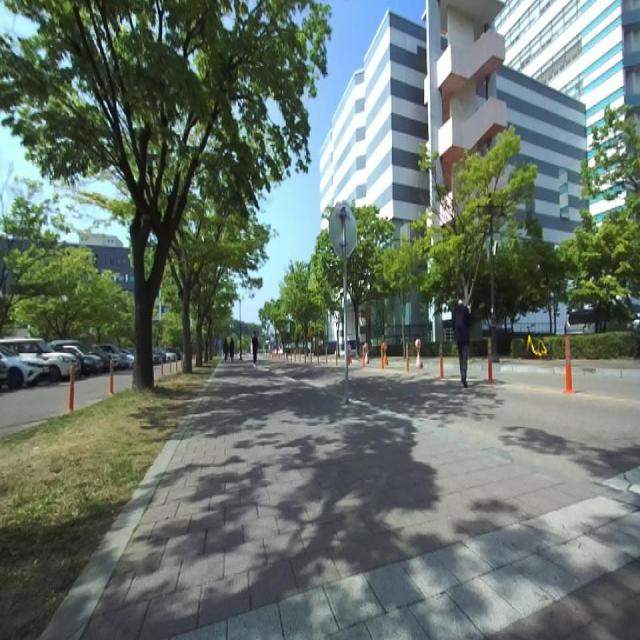sidewalk: (84, 372, 640, 639)
